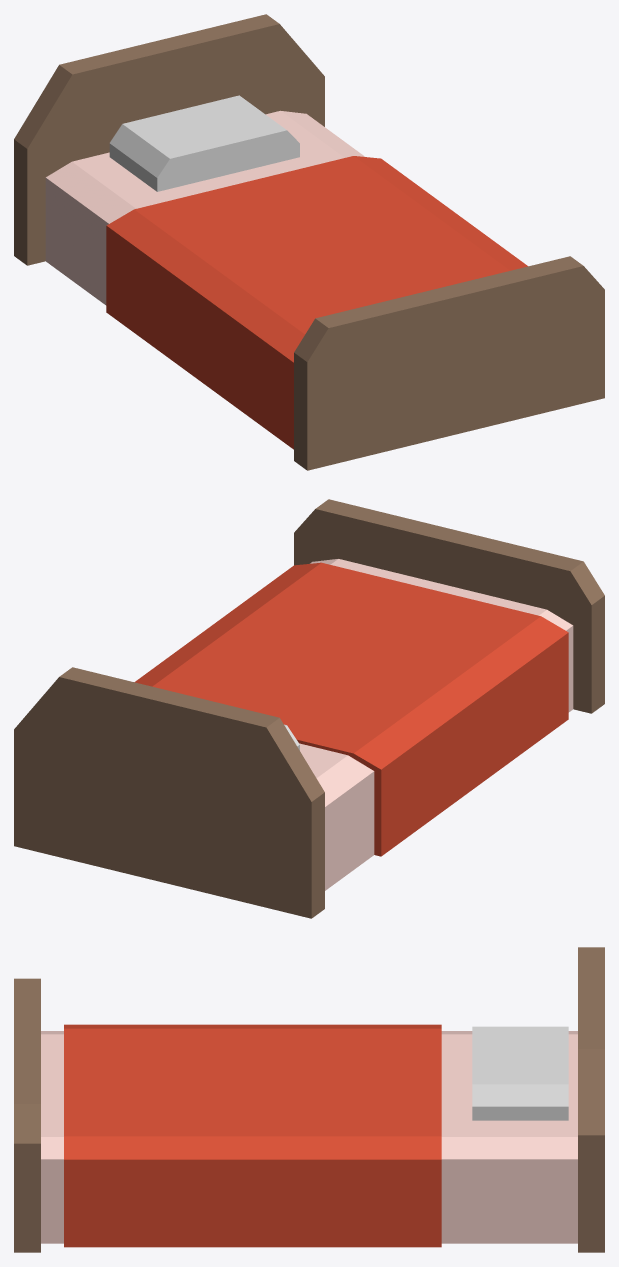
Rendered from Bed 02.FBX.
3 renders of one model, top to bottom at view 1: azimuth 30°, elevation 25°; view 2: azimuth 150°, elevation 25°; view 3: azimuth 270°, elevation 25°, orthographic.
Parts seen in each view (by area): view 1: Bed 02; view 2: Bed 02; view 3: Bed 02.
Boxes of the visible parts, box(x1,y1,x2,y2) form: Bed 02: box(14, 14, 604, 470); Bed 02: box(14, 499, 604, 918); Bed 02: box(14, 947, 604, 1252).
Bounding box in the file's own units: 187 × 108 × 319.
